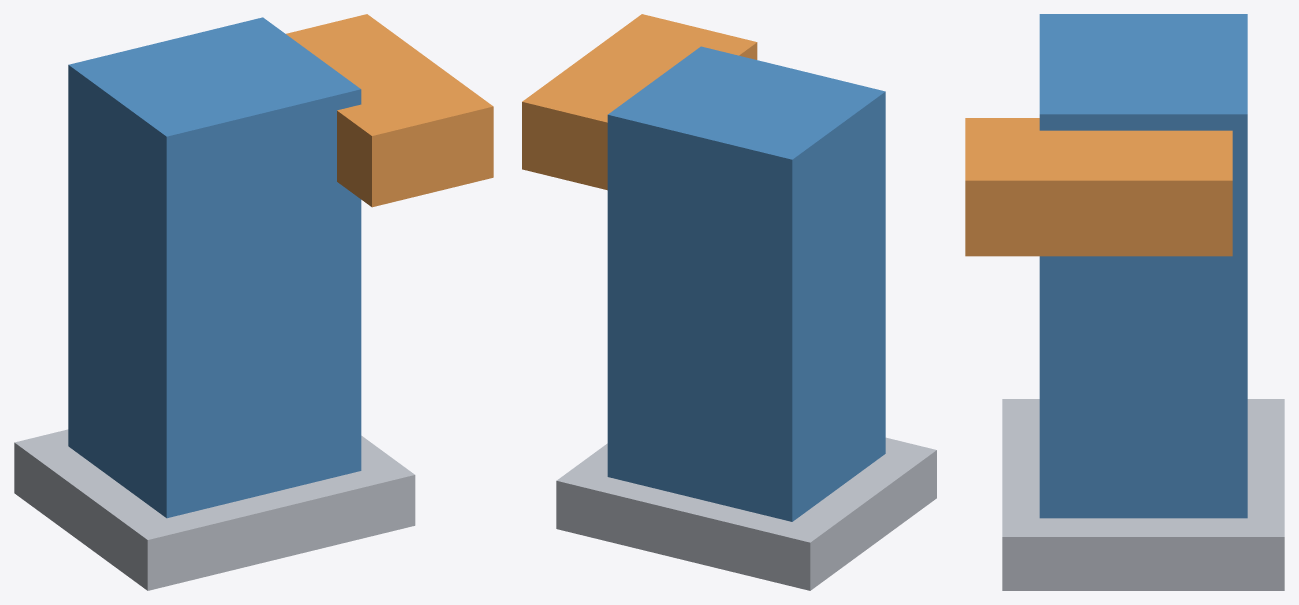
Rendered from sample-model.glb.
The picture shows the model from 3 angles, left to right: view 1: azimuth 30°, elevation 25°; view 2: azimuth 150°, elevation 25°; view 3: azimuth 270°, elevation 25°; orthographic projection. The views are drawn at different scales.
Parts seen in each view (by area): view 1: Body, Foot, Side; view 2: Body, Foot, Side; view 3: Body, Side, Foot.
Boxes of the visible parts, left/top/right/bottom form: Body: left=68, top=17, right=361, bottom=518; Foot: left=14, top=429, right=415, bottom=590; Side: left=286, top=14, right=493, bottom=207; Body: left=607, top=46, right=885, bottom=521; Foot: left=556, top=437, right=936, bottom=590; Side: left=522, top=14, right=757, bottom=190; Body: left=1039, top=14, right=1247, bottom=518; Side: left=965, top=118, right=1232, bottom=256; Foot: left=1002, top=399, right=1284, bottom=590.
Size of the model in its own units: 1.35 by 1.7 by 1.07.
